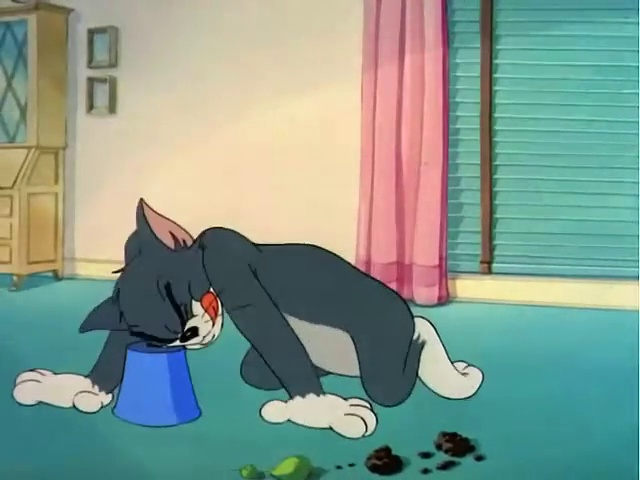tom: (15, 172, 486, 451), (12, 172, 485, 449)
